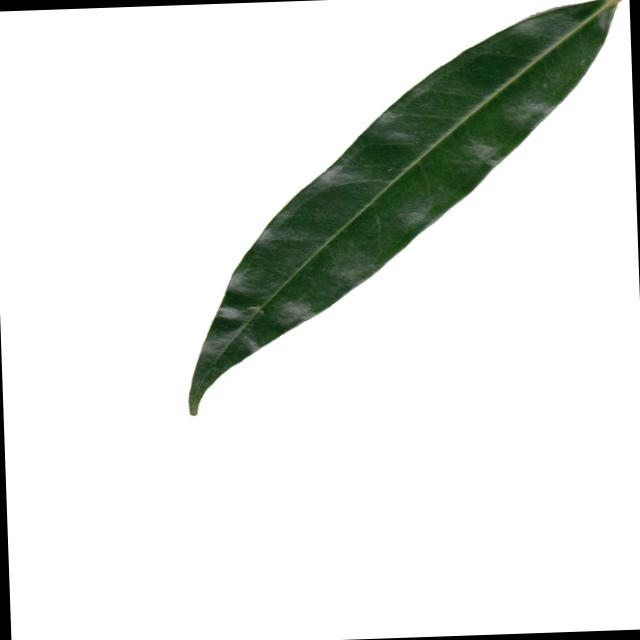Medicinal-Rose Apple: (174, 0, 632, 415)
